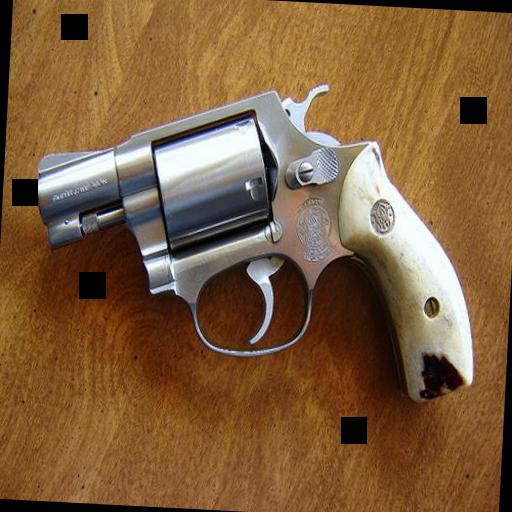Handgun: (22, 64, 488, 416)
